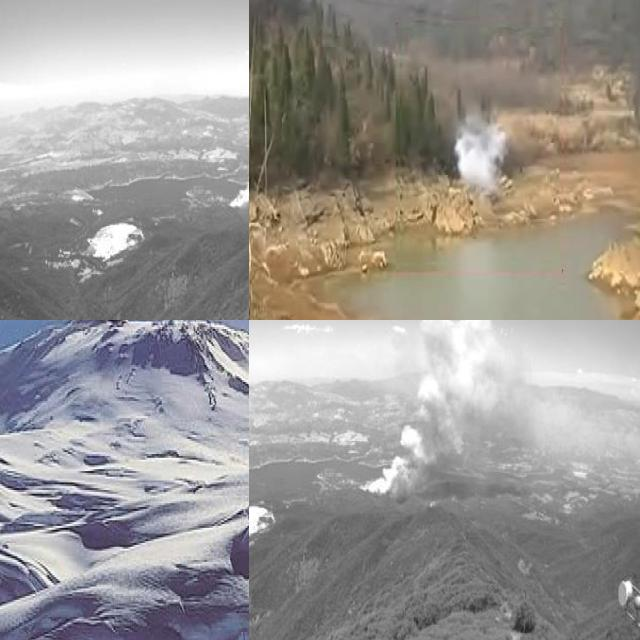smoke: (356, 320, 610, 501), (454, 115, 506, 187)
